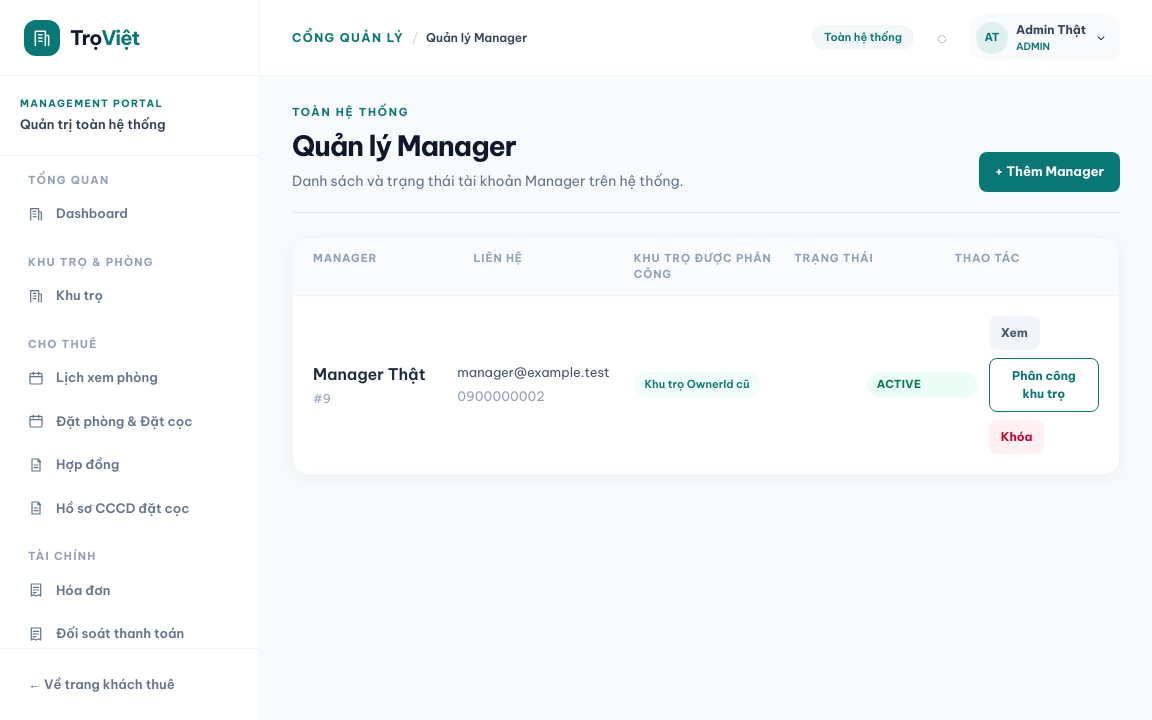
Test case: Phase 4A Admin user APIs › prechecks existing assignments and explains a legacy OwnerId pointing to a Manager
Click the button "Phân công khu trọ": (1044, 384) [989,358,1099,412]
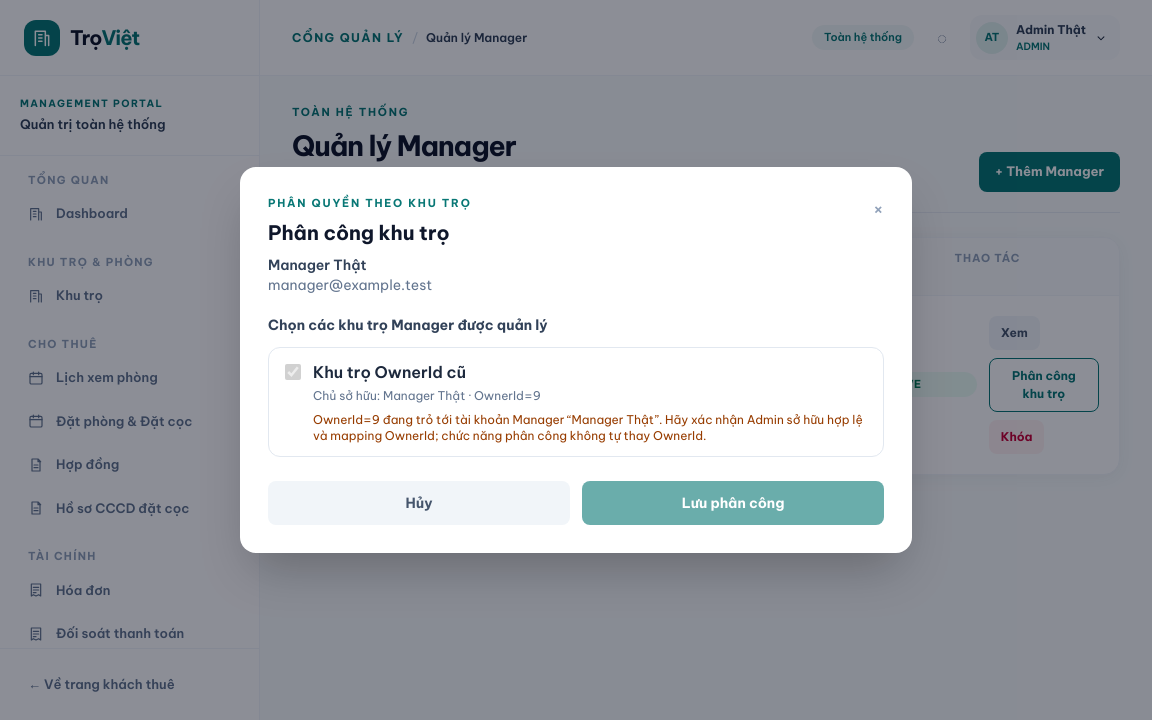
Expected: the checkbox labelled "Khu trọ OwnerId cũ" is checked, [285,364,301,380]
Expected: the checkbox labelled "Khu trọ OwnerId cũ" is disabled, [285,364,301,380]
Expected: the button "Lưu phân công" is disabled, [582,481,884,525]
